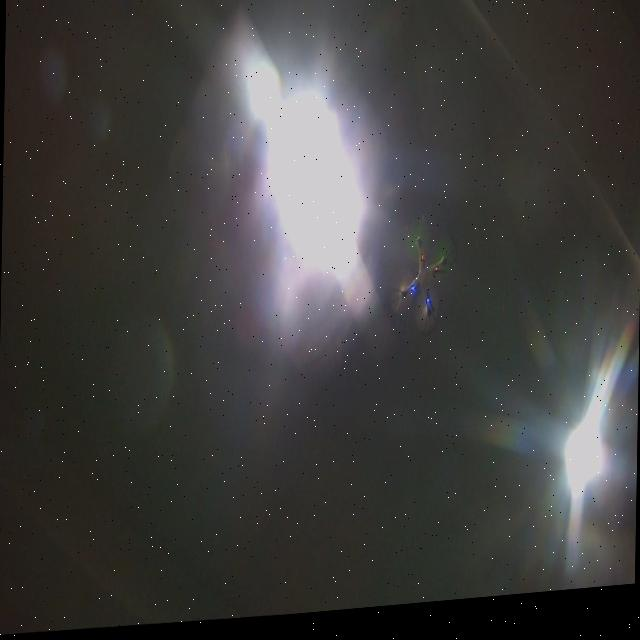drone: (382, 211, 462, 349)
